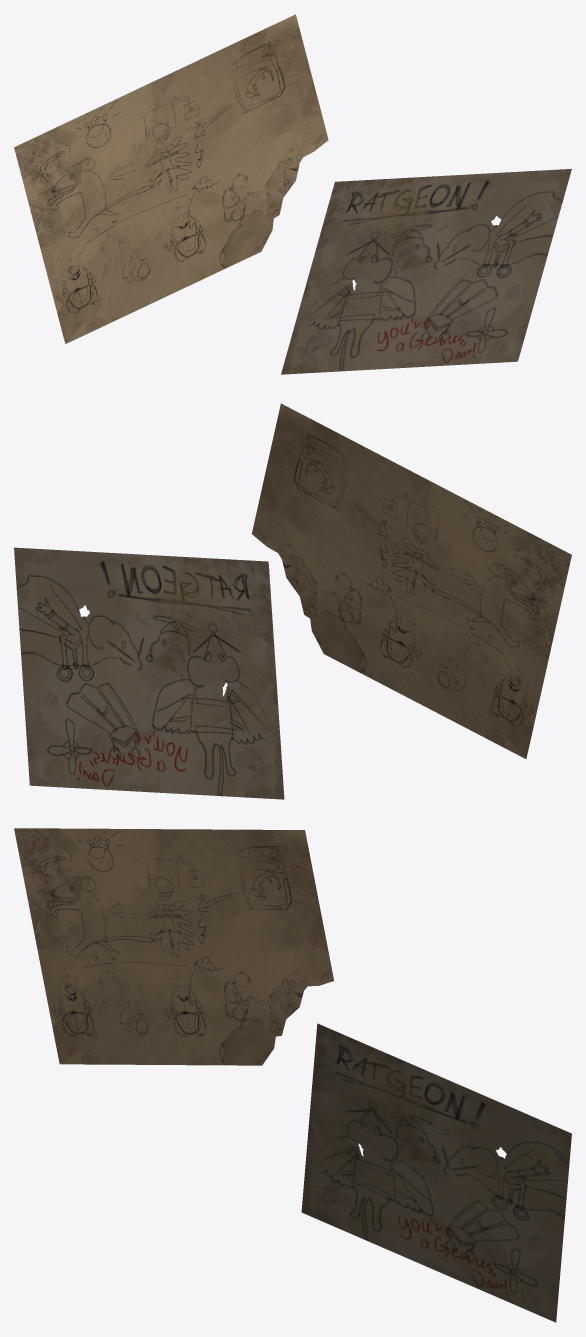
File: Notes_Wall.fbx
3 views of the same model, one above another, from view 1: azimuth 30°, elevation 25°; view 2: azimuth 150°, elevation 25°; view 3: azimuth 330°, elevation 25° (orthographic). The views are drawn at different scales.
Visible parts, largest first — view 1: Note_1, Note_2; view 2: Note_1, Note_2; view 3: Note_1, Note_2.
Boxes of the visible parts, left/top/right/bottom form: Note_1: left=14, top=14, right=328, bottom=343; Note_2: left=281, top=169, right=571, bottom=374; Note_1: left=252, top=403, right=571, bottom=758; Note_2: left=14, top=547, right=284, bottom=799; Note_1: left=14, top=828, right=333, bottom=1065; Note_2: left=301, top=1023, right=571, bottom=1322.
Bounding box in the file's own units: 95.72 × 69.15 × 6.05.
